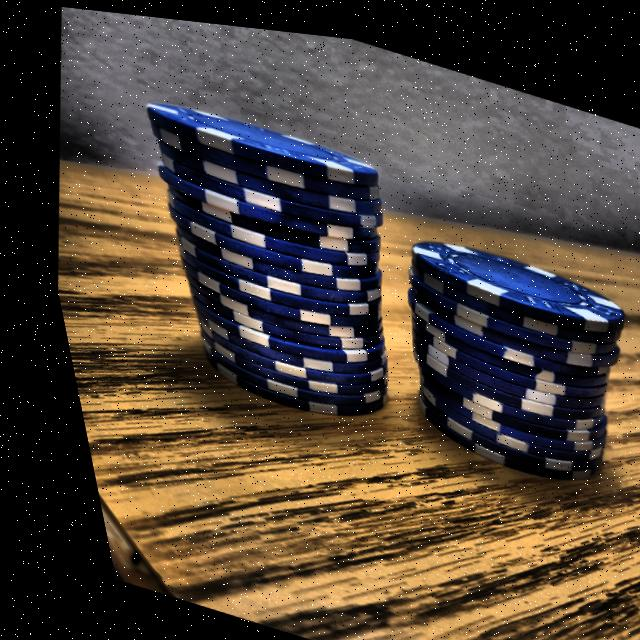Chip: (71, 71, 437, 441), (337, 187, 640, 507)
